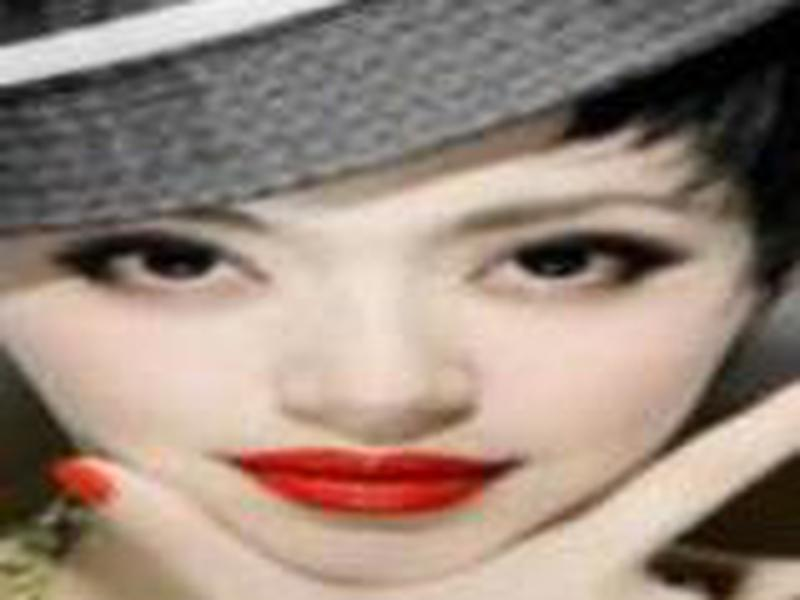without_mask: (4, 170, 744, 587)
